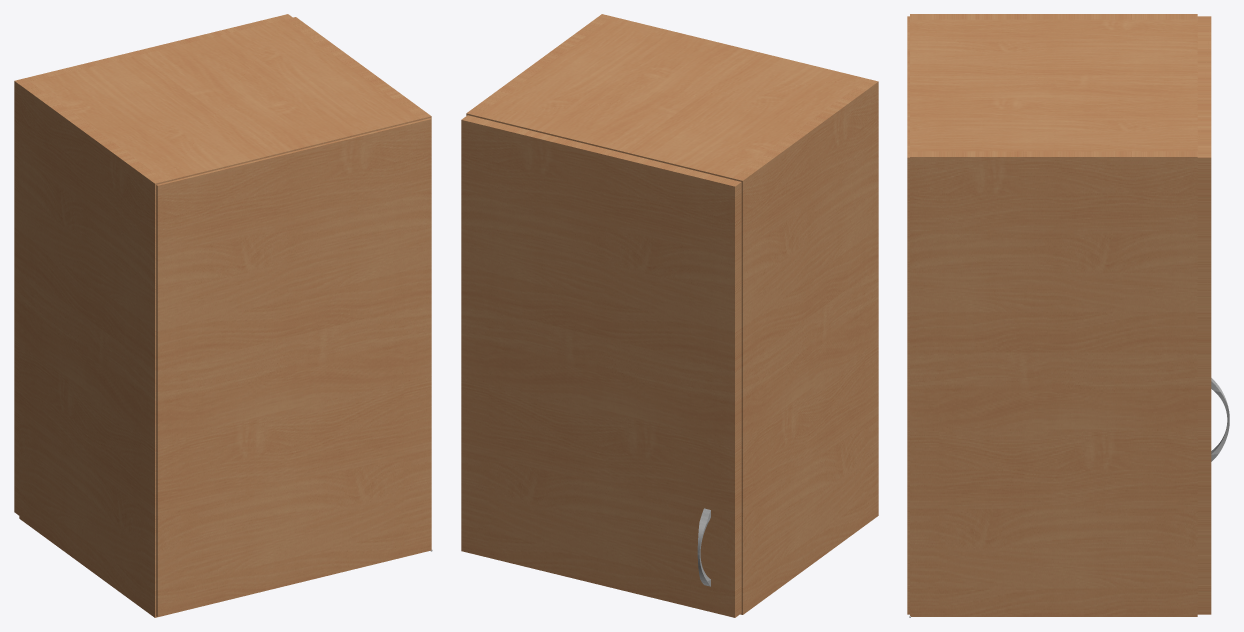
Rendered from antresol_dlya_shkafa_1.glb.
3 renders of one model, left to right at view 1: azimuth 30°, elevation 25°; view 2: azimuth 150°, elevation 25°; view 3: azimuth 270°, elevation 25°, orthographic. The views are drawn at different scales.
Visible parts, largest first — view 1: Shape_IndexedFaceSet_NON, Shape_IndexedFaceSet.002, Shape_IndexedFaceSet.004, Shape_IndexedFaceSet.006, Shape_IndexedFaceSet.001; view 2: Shape_IndexedFaceSet.006, Shape_IndexedFaceSet.002, Shape_IndexedFaceSet.004, Shape_IndexedFaceSet.001; view 3: Shape_IndexedFaceSet.001, Shape_IndexedFaceSet.004, Shape_IndexedFaceSet.006, Shape_IndexedFaceSet_NON, Shape_IndexedFaceSet.002, Shape_IndexedFaceSet.007_NON.
Part boxes in pixels (x1=…): Shape_IndexedFaceSet_NON: x1=156, y1=118, x2=431, y2=616; Shape_IndexedFaceSet.002: x1=19, y1=81, x2=165, y2=617; Shape_IndexedFaceSet.004: x1=31, y1=19, x2=420, y2=182; Shape_IndexedFaceSet.006: x1=14, y1=14, x2=292, y2=515; Shape_IndexedFaceSet.001: x1=285, y1=17, x2=431, y2=120; Shape_IndexedFaceSet.006: x1=461, y1=115, x2=741, y2=617; Shape_IndexedFaceSet.002: x1=732, y1=79, x2=878, y2=614; Shape_IndexedFaceSet.004: x1=477, y1=16, x2=867, y2=179; Shape_IndexedFaceSet.001: x1=466, y1=14, x2=612, y2=117; Shape_IndexedFaceSet.001: x1=910, y1=151, x2=1197, y2=616; Shape_IndexedFaceSet.004: x1=910, y1=19, x2=1197, y2=151; Shape_IndexedFaceSet.006: x1=1197, y1=16, x2=1211, y2=614; Shape_IndexedFaceSet_NON: x1=907, y1=16, x2=909, y2=614; Shape_IndexedFaceSet.002: x1=910, y1=14, x2=1197, y2=19; Shape_IndexedFaceSet.007_NON: x1=1211, y1=378, x2=1229, y2=461.
Size of the model in its own units: 401 by 601 by 381.
Materials: 9 (8 with a texture image).
